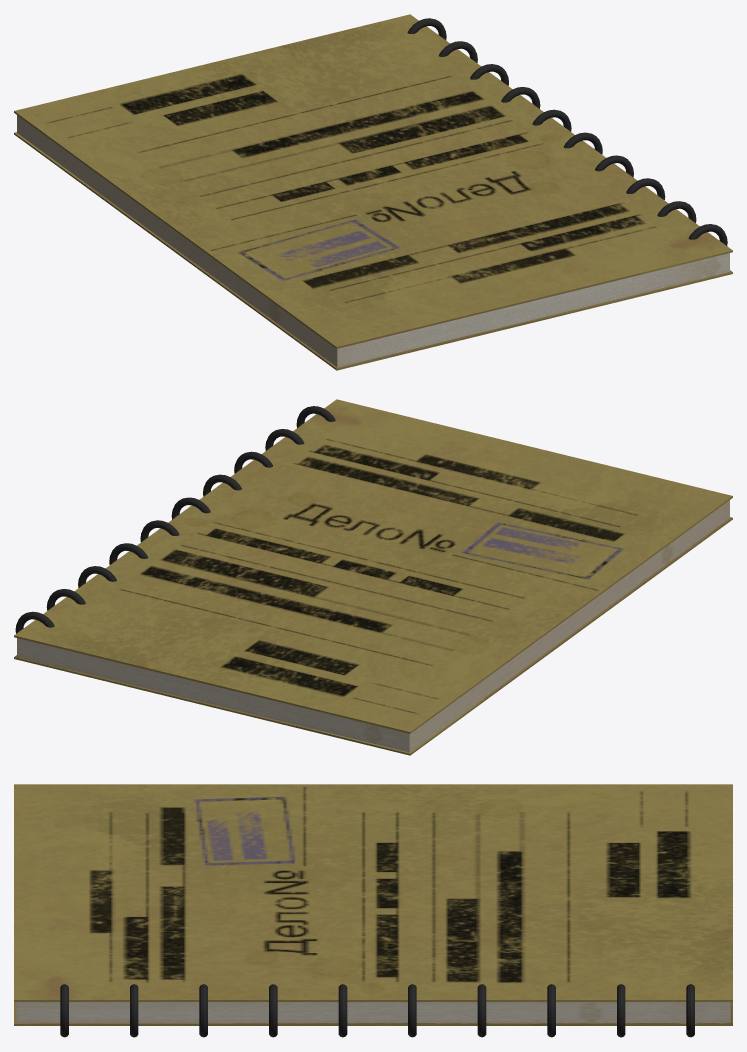
Rendered from papka.glb.
3 views of the same model, one above another, from view 1: azimuth 30°, elevation 25°; view 2: azimuth 150°, elevation 25°; view 3: azimuth 270°, elevation 25° (orthographic). The views are drawn at different scales.
Parts seen in each view (by area): view 1: Cube.003, Torus; view 2: Cube.003, Torus; view 3: Cube.003, Torus.
Boxes of the visible parts, x1=… form: Cube.003: x1=14, y1=14, x2=732, y2=348; Torus: x1=14, y1=18, x2=732, y2=370; Cube.003: x1=14, y1=399, x2=732, y2=733; Torus: x1=14, y1=406, x2=732, y2=755; Cube.003: x1=14, y1=784, x2=732, y2=1001; Torus: x1=14, y1=984, x2=732, y2=1037.
Size of the model in its own units: 0.221 by 0.0223 by 0.299.
3 materials, 3 textured.
